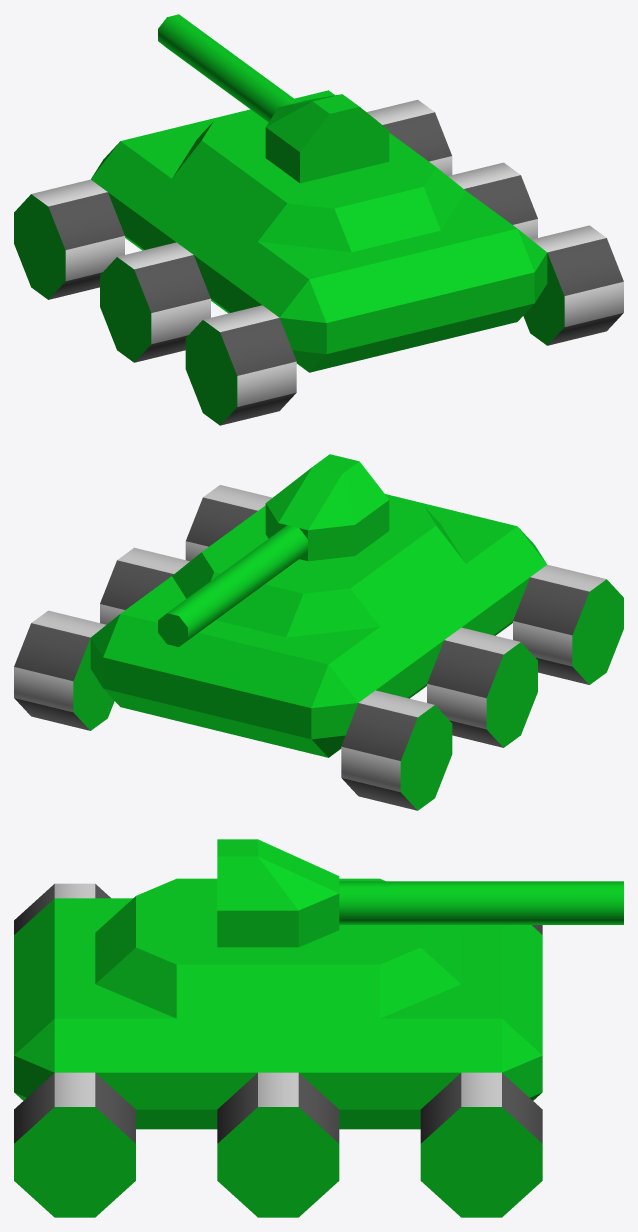
The model's file is enemyB.fbx.
3 views of the same model, one above another, from view 1: azimuth 30°, elevation 25°; view 2: azimuth 150°, elevation 25°; view 3: azimuth 270°, elevation 25° (orthographic). The views are drawn at different scales.
Parts seen in each view (by area): view 1: enemyB; view 2: enemyB; view 3: enemyB.
Part boxes in pixels (x1,y1,x2,y2): enemyB: [14, 14, 623, 425]; enemyB: [14, 454, 623, 810]; enemyB: [14, 839, 623, 1217].
Bounding box in the file's own units: 1.62 × 0.875 × 1.87.
